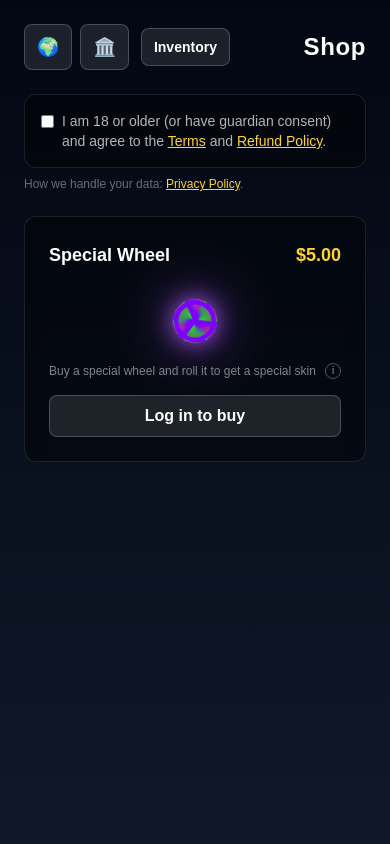
Test: ShopPage › reveals the wheel odds, matching the served numbers exactly, behind the info toggle (App Store 3.1.1)
Expected: the text "silver - " is not shown
Click the button named "Wheel odds info": (333, 371) [325,363,341,379]
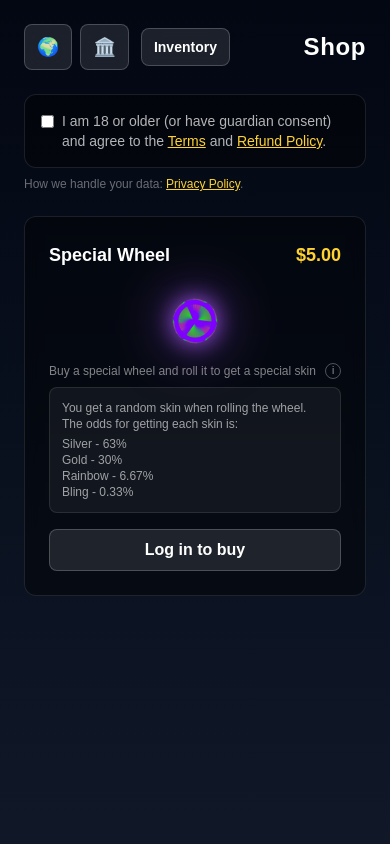
Result: the text "silver - 63%" is shown at [62,437,127,451]
Result: the text "gold - 30%" is shown at [62,453,122,467]
Result: the text "rainbow - 6.67%" is shown at [62,469,153,483]
